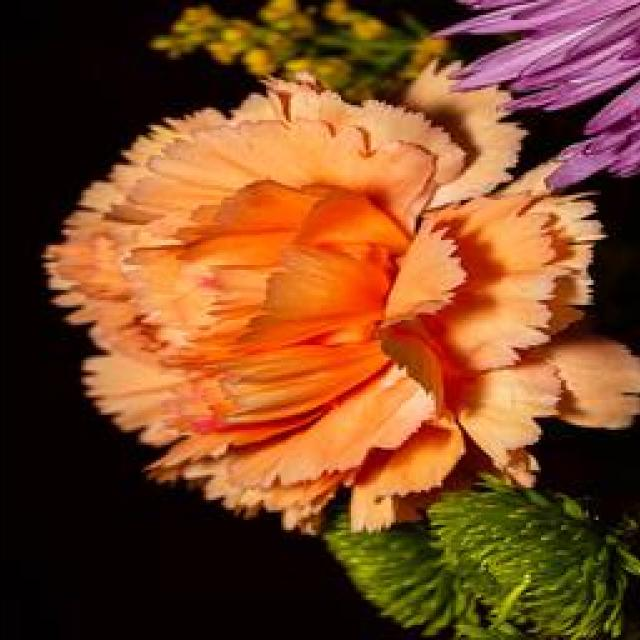carnation: (46, 84, 599, 542)
